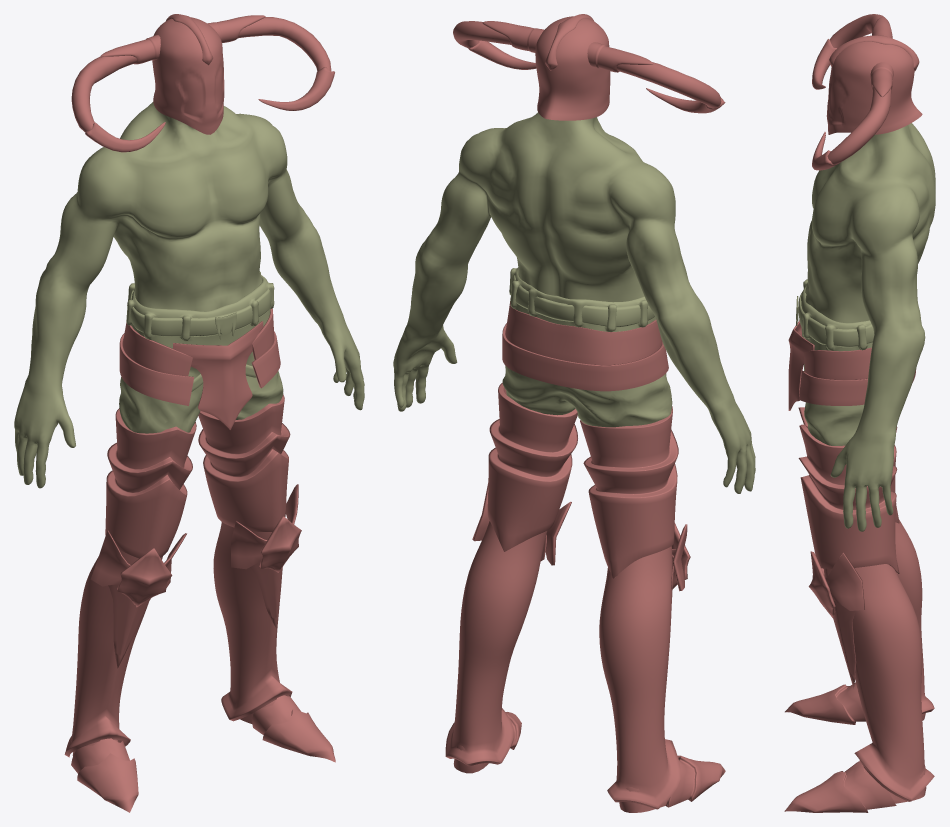
File: War.fbx
The picture shows the model from 3 angles, left to right: view 1: azimuth 30°, elevation 25°; view 2: azimuth 150°, elevation 25°; view 3: azimuth 270°, elevation 25°; orthographic projection. The views are drawn at different scales.
Visible parts, largest first — view 1: Clovek_LP, Stehna_LP, Holene_LP, Nohavice_LP, Helma_LP, Boty_LP, Vajca_LP, Rohy_LP, Trojuholniky_LP, Kridla_LP, Rit1_LP, Pistale_LP (+4 smaller); view 2: Clovek_LP, Holene_LP, Stehna_LP, Nohavice_LP, Helma_LP, Rit2_LP, Rit1_LP, Rohy_LP, Boty_LP, Hovadiny_LP, Opasek_LP, Kridla_LP (+2 smaller); view 3: Clovek_LP, Holene_LP, Stehna_LP, Helma_LP, Boty_LP, Nohavice_LP, Rohy_LP, Rit2_LP, Rit1_LP, Kridla_LP, Vajca_LP, Opasek_LP (+5 smaller).
Part boxes in pixels (bbox=[...]): Clovek_LP: bbox=[14, 102, 364, 488]; Stehna_LP: bbox=[105, 394, 290, 558]; Holene_LP: bbox=[64, 522, 292, 757]; Nohavice_LP: bbox=[119, 271, 283, 433]; Helma_LP: bbox=[152, 17, 224, 134]; Boty_LP: bbox=[71, 695, 335, 812]; Vajca_LP: bbox=[173, 321, 263, 429]; Rohy_LP: bbox=[71, 17, 331, 132]; Trojuholniky_LP: bbox=[117, 516, 301, 607]; Kridla_LP: bbox=[90, 484, 298, 587]; Rit1_LP: bbox=[119, 331, 280, 405]; Pistale_LP: bbox=[108, 562, 282, 668]; Clovek_LP: bbox=[393, 112, 755, 493]; Holene_LP: bbox=[445, 521, 680, 809]; Stehna_LP: bbox=[487, 382, 678, 578]; Nohavice_LP: bbox=[502, 267, 672, 427]; Helma_LP: bbox=[535, 16, 610, 120]; Rit2_LP: bbox=[505, 298, 662, 364]; Rit1_LP: bbox=[502, 323, 668, 391]; Rohy_LP: bbox=[453, 21, 721, 107]; Boty_LP: bbox=[453, 712, 725, 812]; Hovadiny_LP: bbox=[482, 21, 653, 72]; Opasek_LP: bbox=[511, 275, 654, 327]; Kridla_LP: bbox=[472, 483, 687, 591]; Clovek_LP: bbox=[805, 123, 935, 531]; Holene_LP: bbox=[824, 519, 934, 801]; Stehna_LP: bbox=[798, 407, 899, 573]; Helma_LP: bbox=[826, 35, 922, 134]; Boty_LP: bbox=[784, 682, 926, 812]; Nohavice_LP: bbox=[801, 279, 872, 445]; Rohy_LP: bbox=[827, 14, 891, 164]; Rit2_LP: bbox=[803, 347, 871, 379]; Rit1_LP: bbox=[799, 369, 916, 405]; Kridla_LP: bbox=[821, 552, 864, 610]; Vajca_LP: bbox=[788, 320, 814, 410]; Opasek_LP: bbox=[798, 293, 874, 347].
Size of the model in its own units: 0.9638 by 2 by 0.3783.
